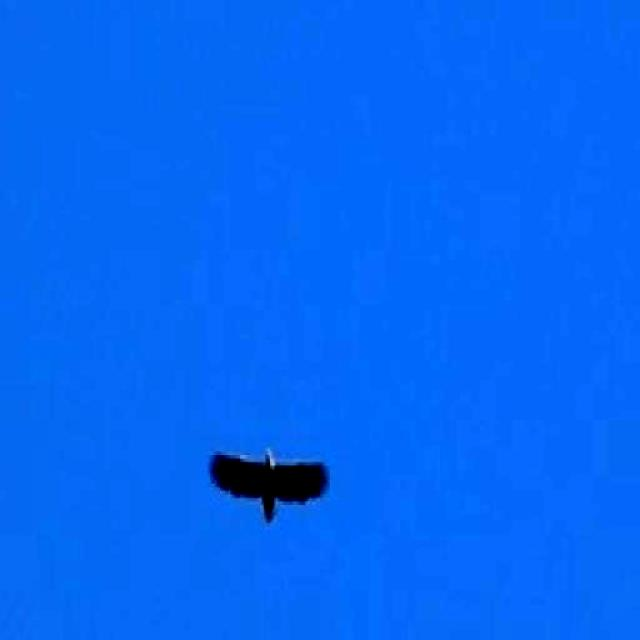airplane: (195, 406, 345, 545)
